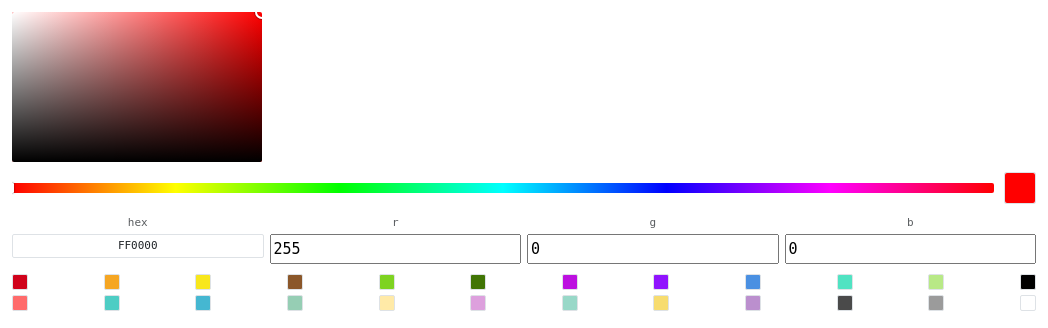
it: CustomColorPicker › Preset Colors › updates all inputs when preset is selected
Note: Click on green preset
Click the element named "Color: #7ED321" at (386, 282), box [378,274,394,290]
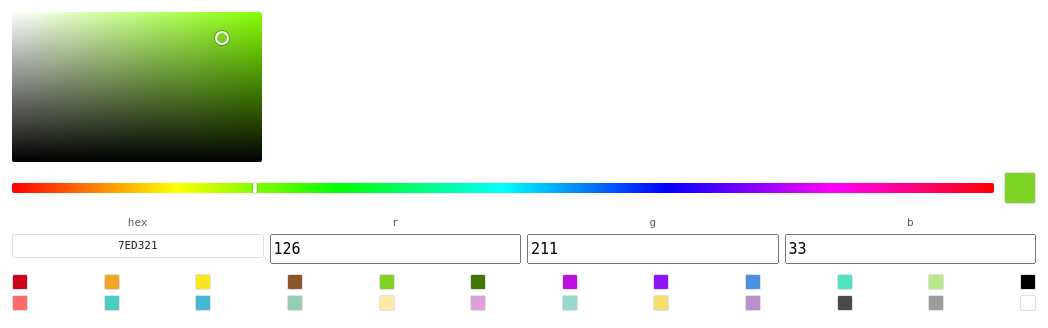
Check: the field with placeholder "000000" holds "7ED321", box [12,234,264,258]
